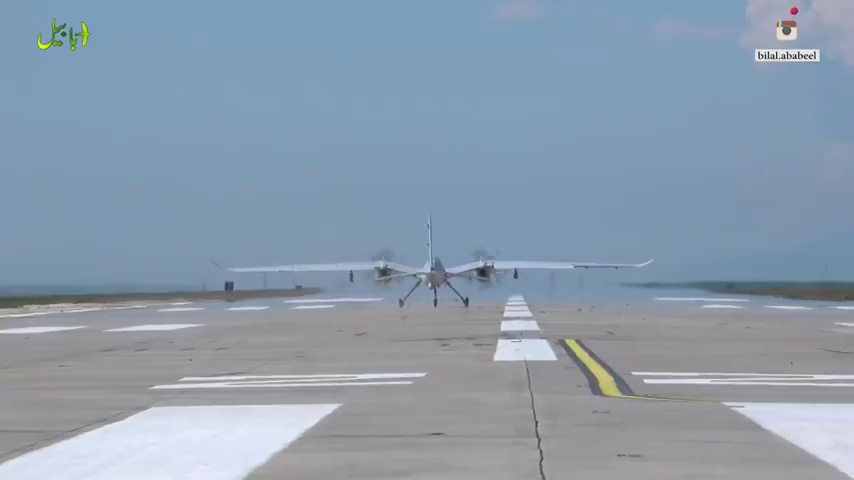military drone: (212, 211, 655, 307)
